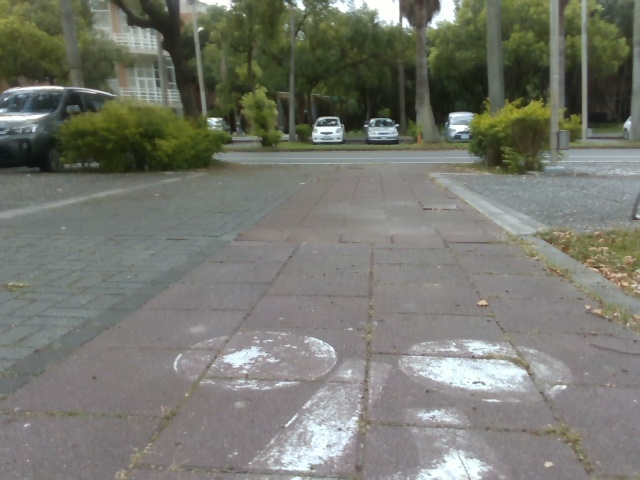grass: (0, 0, 639, 173), (525, 225, 639, 298)
road: (0, 138, 639, 479), (558, 137, 639, 169)
sidewalk: (428, 166, 639, 234)
